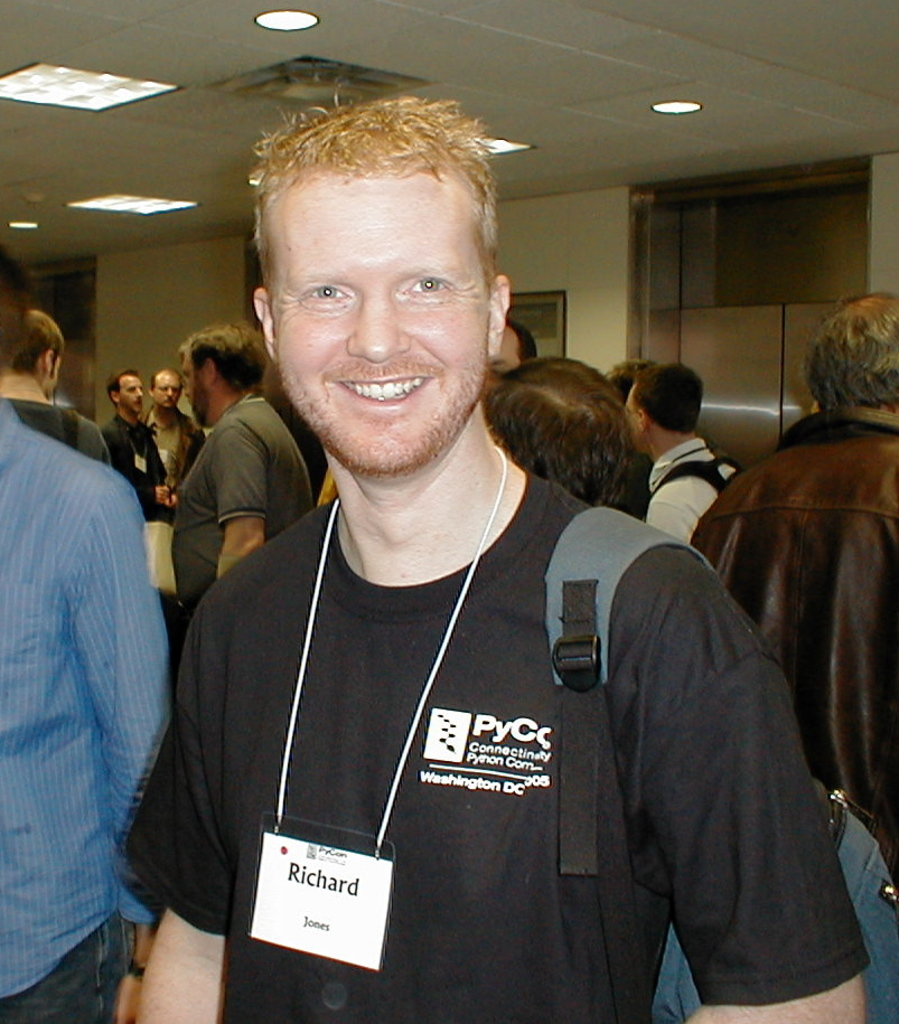Human-face: (274, 169, 494, 463), (124, 369, 146, 421), (158, 377, 169, 404)
